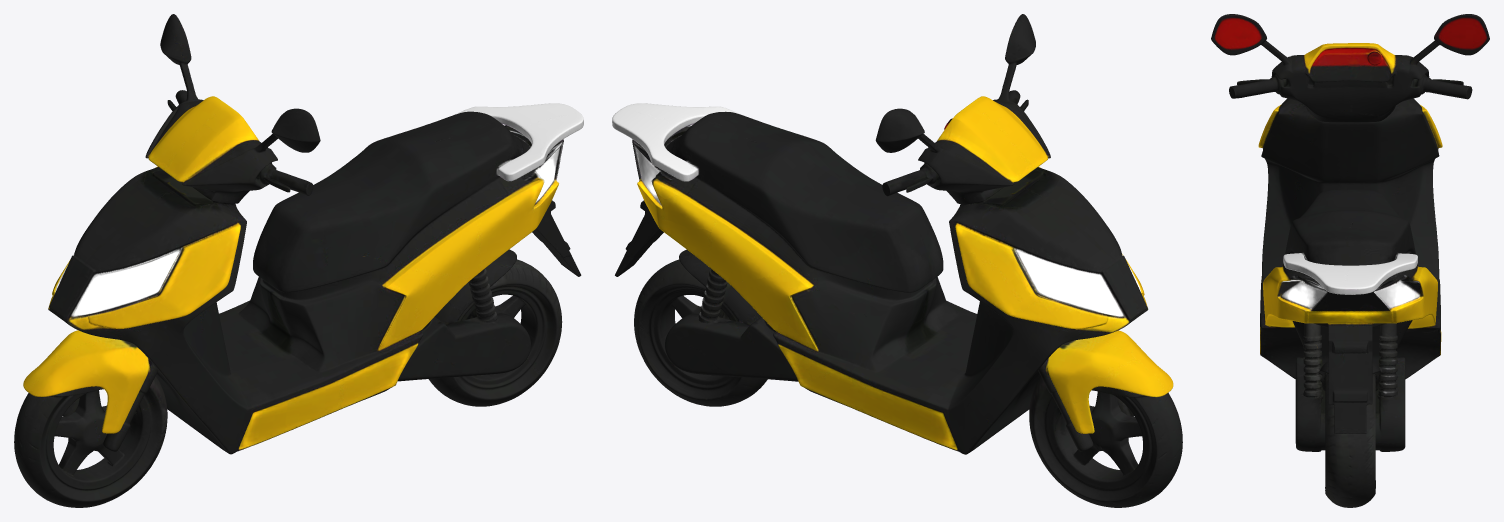
Rendered from bike.glb.
The picture shows the model from 3 angles, left to right: view 1: azimuth 30°, elevation 25°; view 2: azimuth 150°, elevation 25°; view 3: azimuth 270°, elevation 25°; orthographic projection. The views are drawn at different scales.
Size of the model in its own units: 1.9 by 1.31 by 0.877.
1 material, 1 textured.
